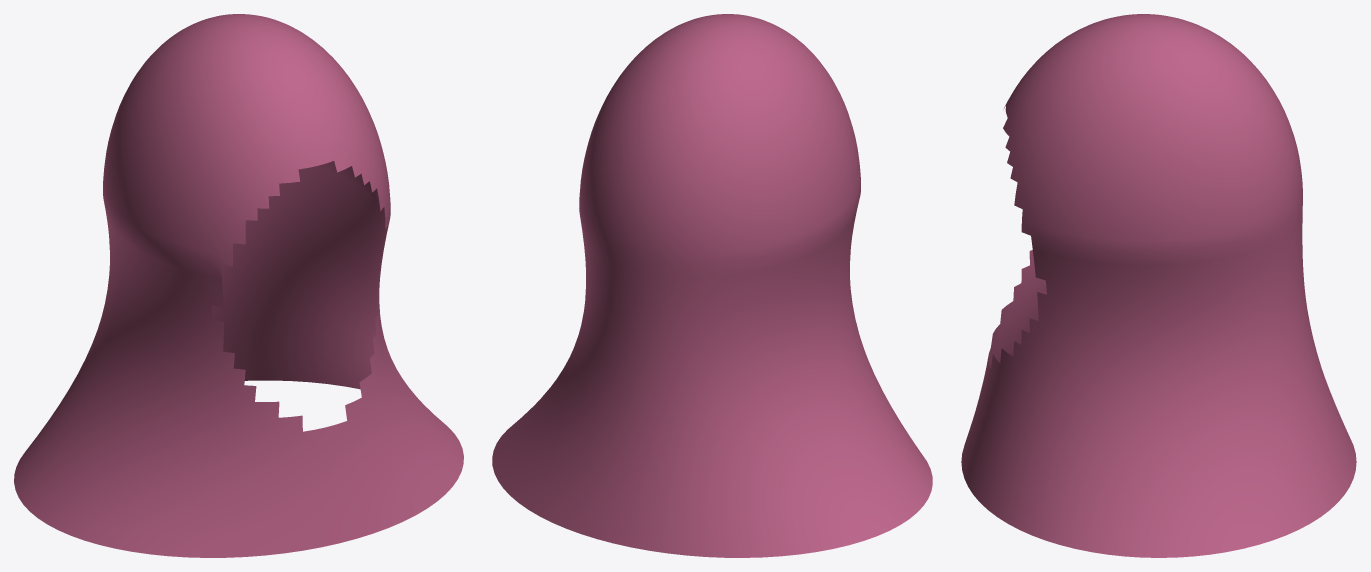
The model's file is hair-hijab.glb.
3 renders of one model, left to right at view 1: azimuth 30°, elevation 25°; view 2: azimuth 150°, elevation 25°; view 3: azimuth 270°, elevation 25°, orthographic. The views are drawn at different scales.
Parts seen in each view (by area): view 1: hijab; view 2: hijab; view 3: hijab.
Part boxes in pixels (x1,y1,x2,y2): hijab: (14, 14, 463, 557); hijab: (492, 14, 932, 557); hijab: (961, 14, 1356, 557).
Size of the model in its own units: 0.3563 by 0.3801 by 0.3101.
